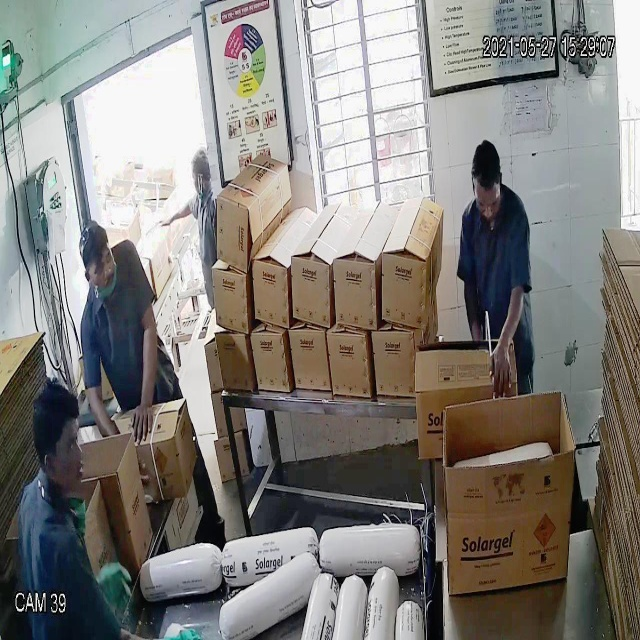Sin_gafas: (77, 243, 118, 283)
